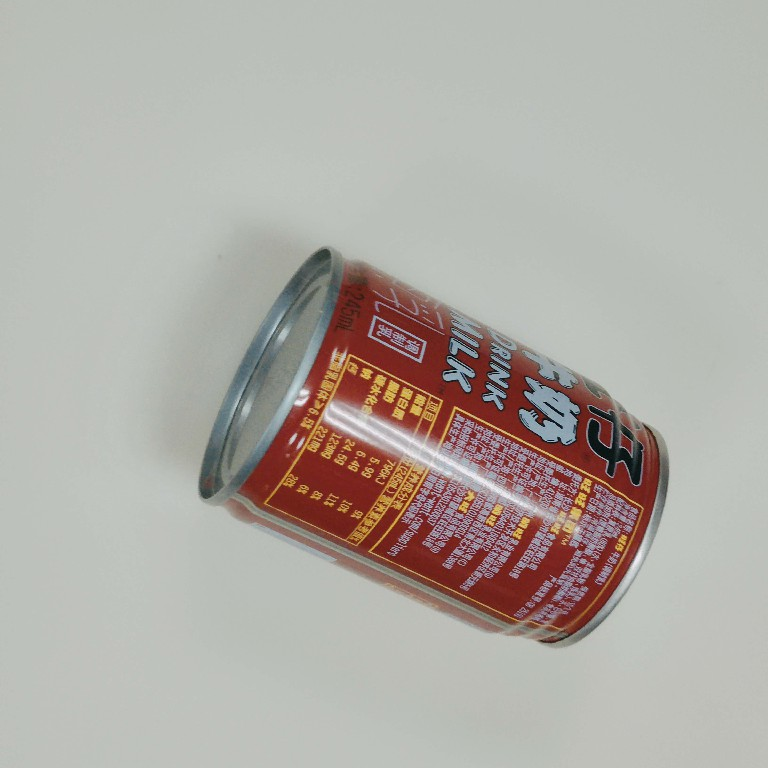can: (189, 243, 673, 652)
